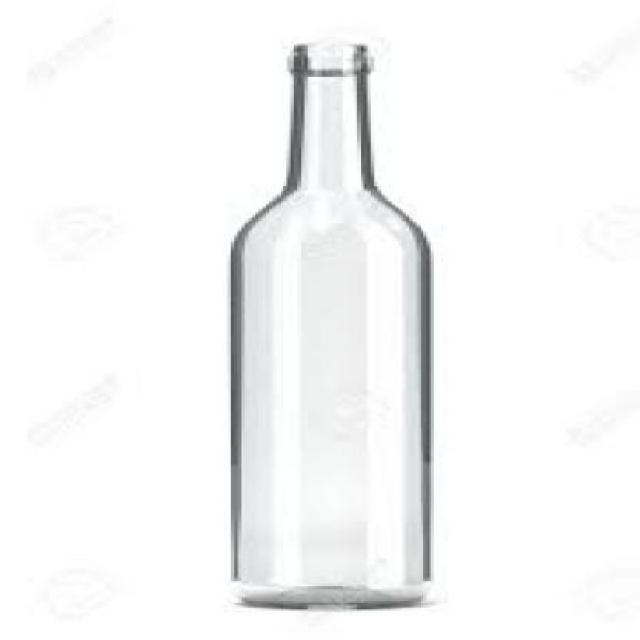kaca: (225, 43, 428, 606)
